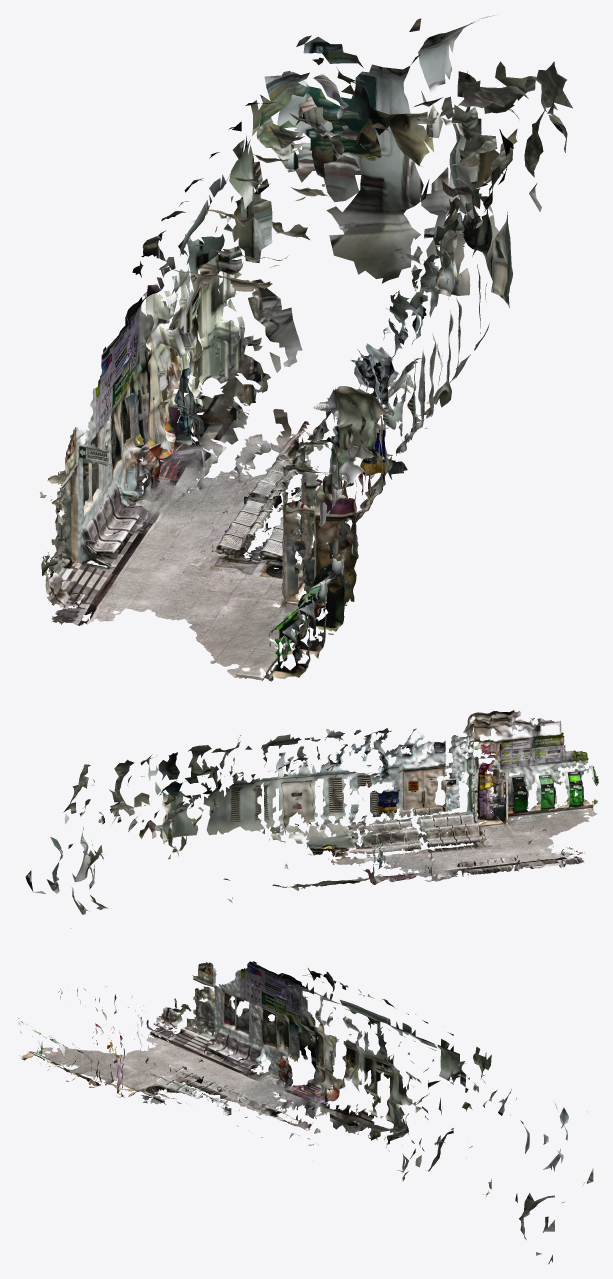
The model's file is 140513-lobbyutama-tex.glb.
The picture shows the model from 3 angles, top to bottom: view 1: azimuth 30°, elevation 25°; view 2: azimuth 150°, elevation 25°; view 3: azimuth 270°, elevation 25°; orthographic projection. The views are drawn at different scales.
Visible parts, largest first — view 1: Node; view 2: Node; view 3: Node.
Boxes of the visible parts, box(x1,y1,x2,y2) form: Node: box(39, 14, 572, 681); Node: box(25, 710, 598, 928); Node: box(17, 961, 593, 1264).
Size of the model in its own units: 17.71 by 6.01 by 19.78.
Materials: 16 (16 with a texture image).
